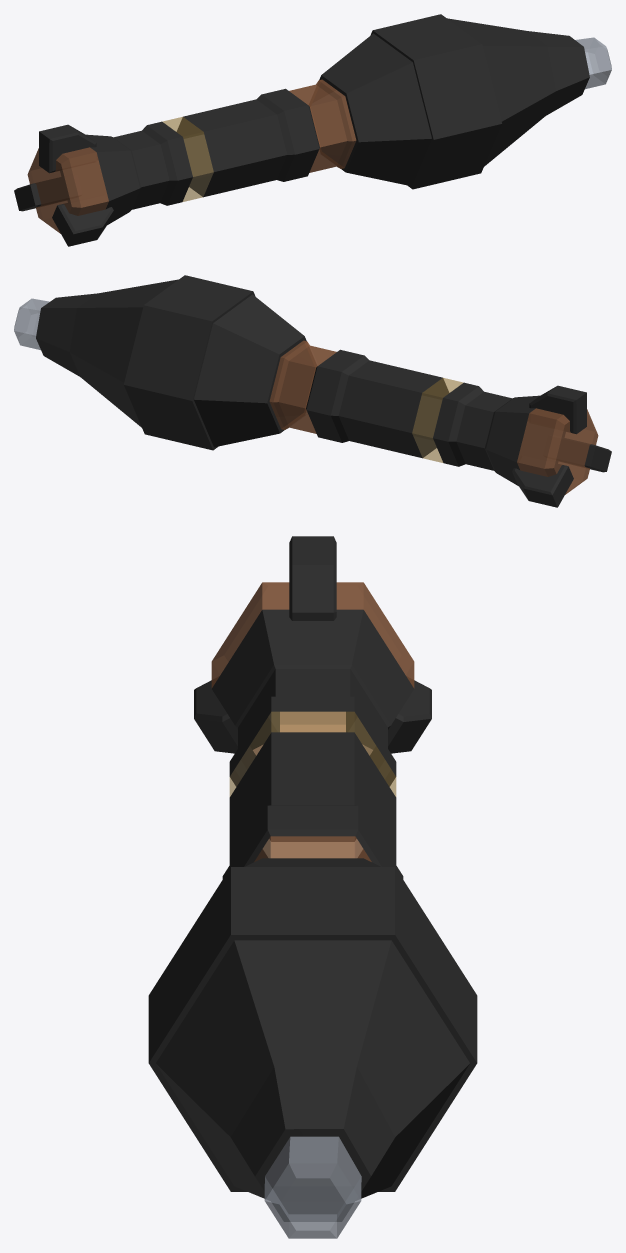
The model's file is missile.fbx.
The picture shows the model from 3 angles, top to bottom: view 1: azimuth 30°, elevation 25°; view 2: azimuth 150°, elevation 25°; view 3: azimuth 270°, elevation 25°; orthographic projection. The views are drawn at different scales.
Visible parts, largest first — view 1: Cylinder.001; view 2: Cylinder.001; view 3: Cylinder.001.
Part boxes in pixels (x1,y1,x2,y2): Cylinder.001: [14, 14, 611, 246]; Cylinder.001: [14, 275, 611, 507]; Cylinder.001: [148, 536, 477, 1238].
Size of the model in its own units: 301 by 66.47 by 76.44.
